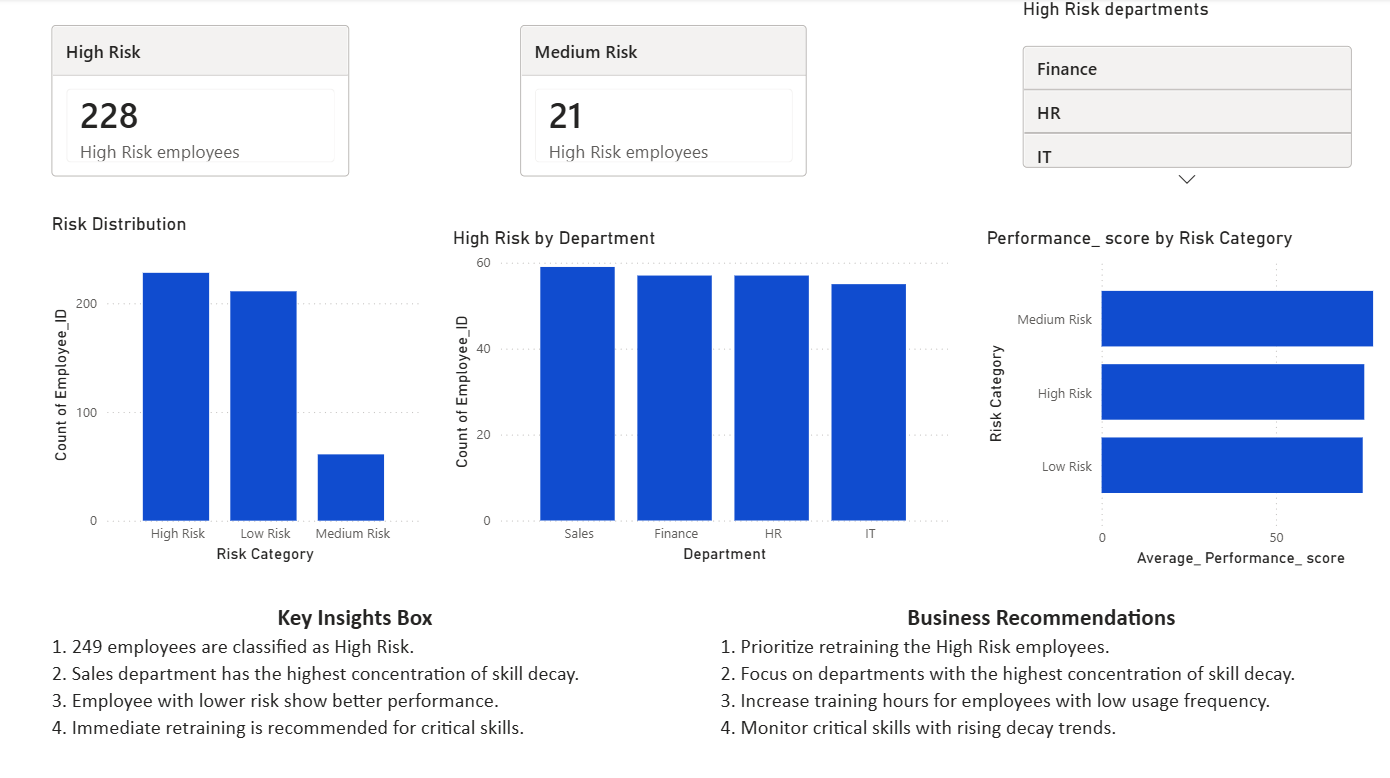

The dashboard page shown, as its layout file describes it:
{"tool":"powerbi","page":{"name":"Executive Dashboard","canvas":[1280,720],"ordinal":1},"visuals":[{"type":"columnChart","title":"Risk Distribution","fields":{"Category":["synthetic_skill_decay synthetic_skill_data.Risk Category"],"Y":["CountNonNull(synthetic_skill_decay synthetic_skill_data.Employee_ID)"]},"box":[43,197.7,351.2,326.7],"z":0},{"type":"clusteredColumnChart","title":"High Risk by Department","fields":{"Category":["synthetic_skill_decay synthetic_skill_data.Department"],"Y":["Count(synthetic_skill_decay synthetic_skill_data.Employee_ID)"]},"box":[411.6,210.5,465.1,314],"z":1000},{"type":"clusteredBarChart","title":"Performance_ score by Risk Category","fields":{"Category":["synthetic_skill_decay synthetic_skill_data.Risk Category"],"Y":["synthetic_skill_decay synthetic_skill_data.Average_ Performance_ score"]},"box":[901.2,210.5,379.1,317.4],"z":2000},{"type":"textbox","box":[657,551.2,600,147.7],"z":3000},{"type":"cardVisual","fields":{"Data":["Sum(synthetic_skill_decay synthetic_skill_data.High Risk employees)"],"Rows":["synthetic_skill_decay synthetic_skill_data.Risk Category"]},"box":[42.5,0,283.7,189.5],"z":4000},{"type":"cardVisual","fields":{"Data":["Sum(synthetic_skill_decay synthetic_skill_data.High Risk employees)"],"Rows":["synthetic_skill_decay synthetic_skill_data.Risk Category"]},"box":[473.3,0,273.4,189.5],"z":5000},{"type":"cardVisual","title":"High Risk departments","fields":{"Rows":["synthetic_skill_decay synthetic_skill_data.Department"],"Data":["Min(synthetic_skill_decay synthetic_skill_data.Risk Category)"]},"box":[935,0,312.4,181.5],"z":6000},{"type":"textbox","box":[43,551.2,567.4,150],"z":7000}]}

Visuals, with their boxes in screenshot pixels (x1, y1, x2, y2), scaled from the page's 1280x720 canvas onto the 1390x778 screenshot:
"Risk Distribution" columnChart: bbox(47, 214, 428, 567)
"High Risk by Department" clusteredColumnChart: bbox(447, 227, 952, 567)
"Performance_ score by Risk Category" clusteredBarChart: bbox(979, 227, 1389, 570)
textbox: bbox(713, 596, 1365, 755)
cardVisual - Sum(synthetic_skill_decay synthetic_skill_data.High Risk employees) x synthetic_skill_decay synthetic_skill_data.Risk Category: bbox(46, 0, 354, 205)
cardVisual - Sum(synthetic_skill_decay synthetic_skill_data.High Risk employees) x synthetic_skill_decay synthetic_skill_data.Risk Category: bbox(514, 0, 811, 205)
"High Risk departments" cardVisual: bbox(1015, 0, 1355, 196)
textbox: bbox(47, 596, 663, 758)
